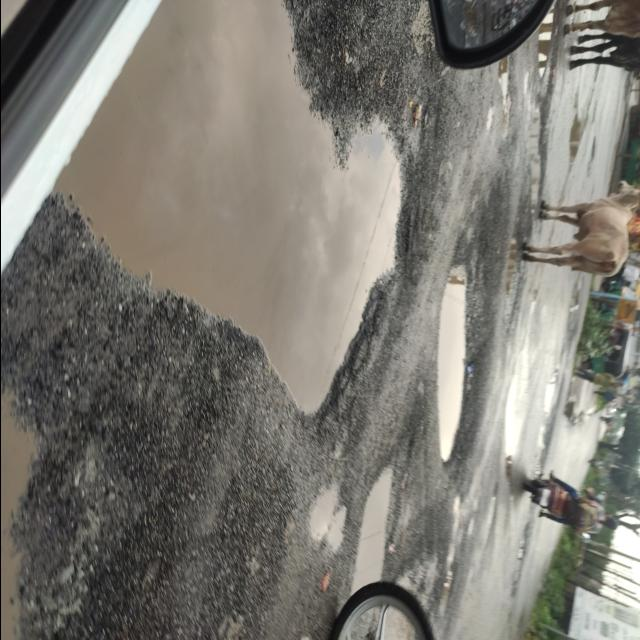potholes: (43, 0, 413, 424), (0, 380, 50, 638), (424, 248, 476, 476), (346, 454, 399, 640), (498, 287, 540, 475), (529, 0, 563, 208), (302, 472, 353, 555), (570, 66, 601, 178), (513, 516, 531, 594), (565, 279, 581, 339)
